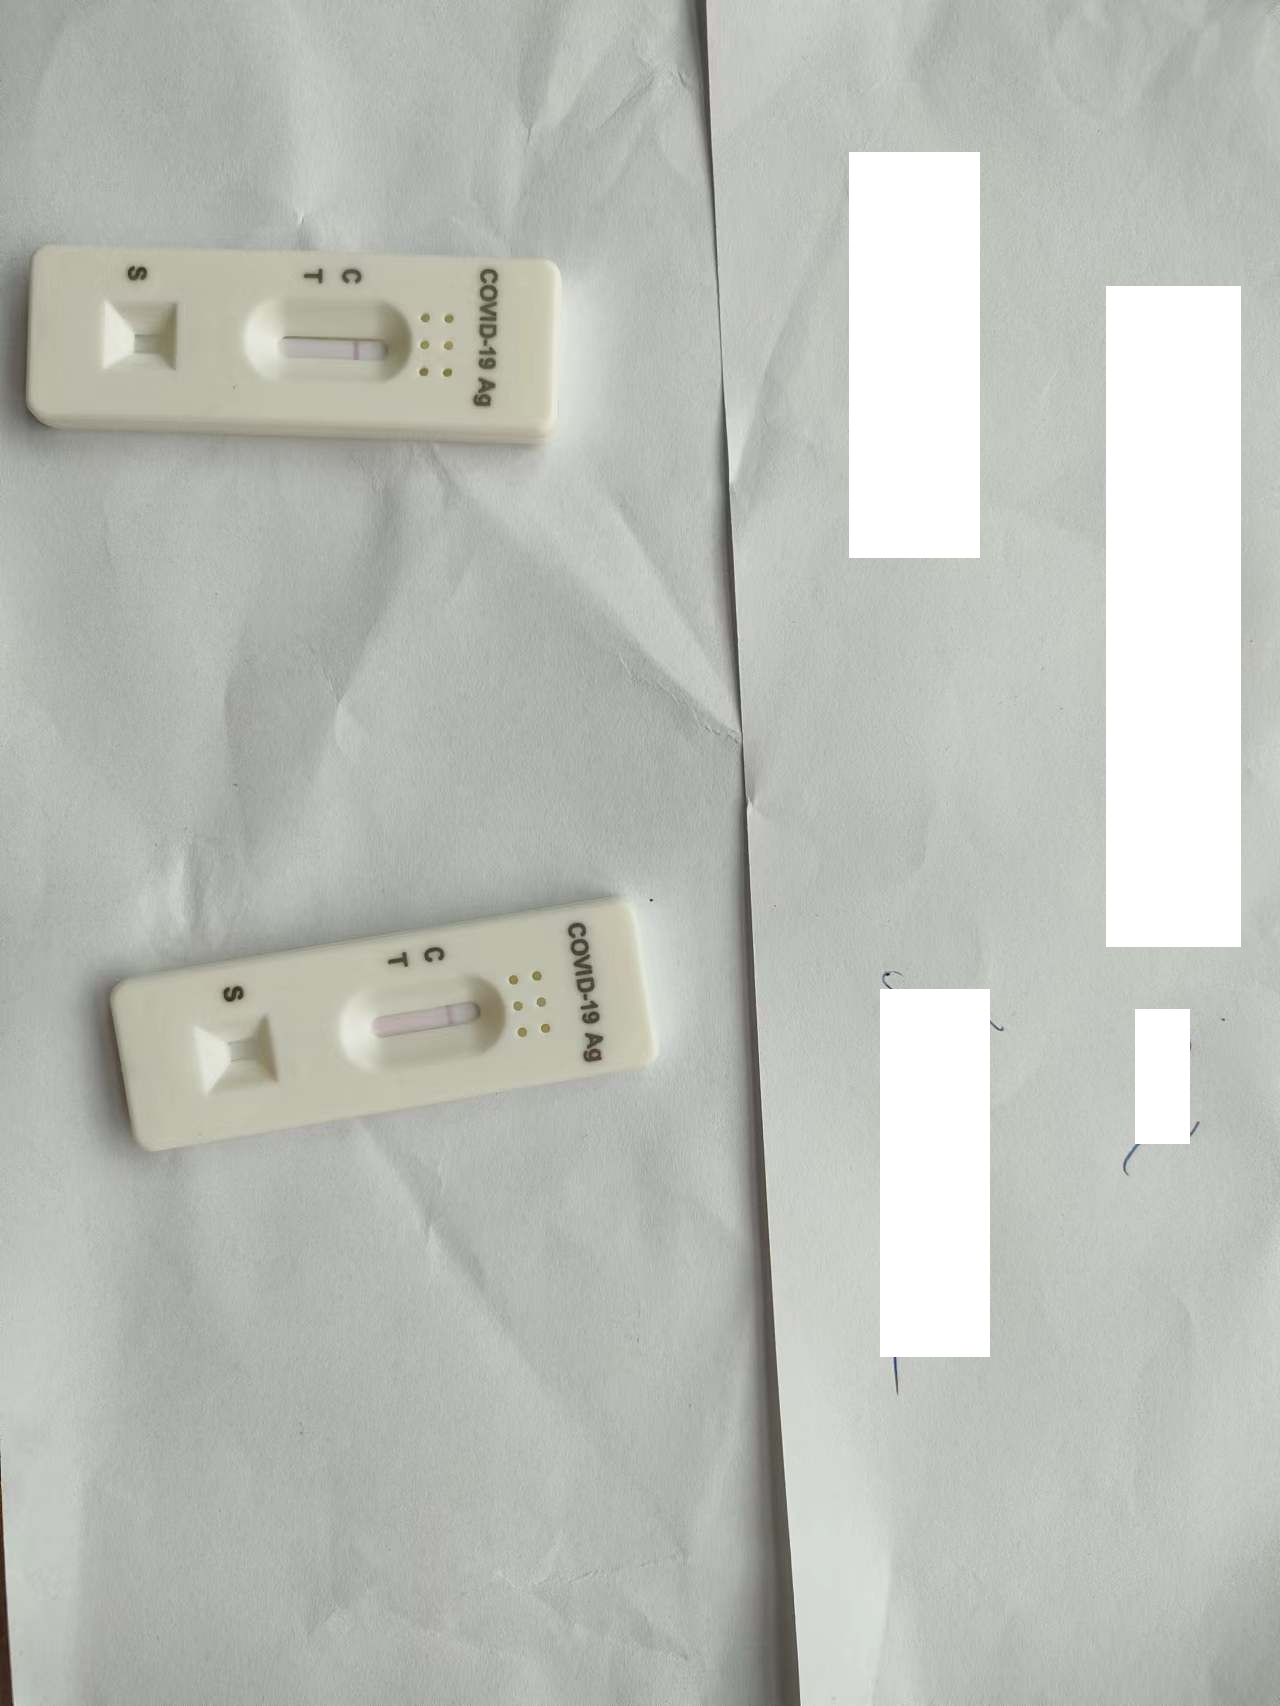negative: (342, 985, 506, 1073), (257, 297, 409, 375)
